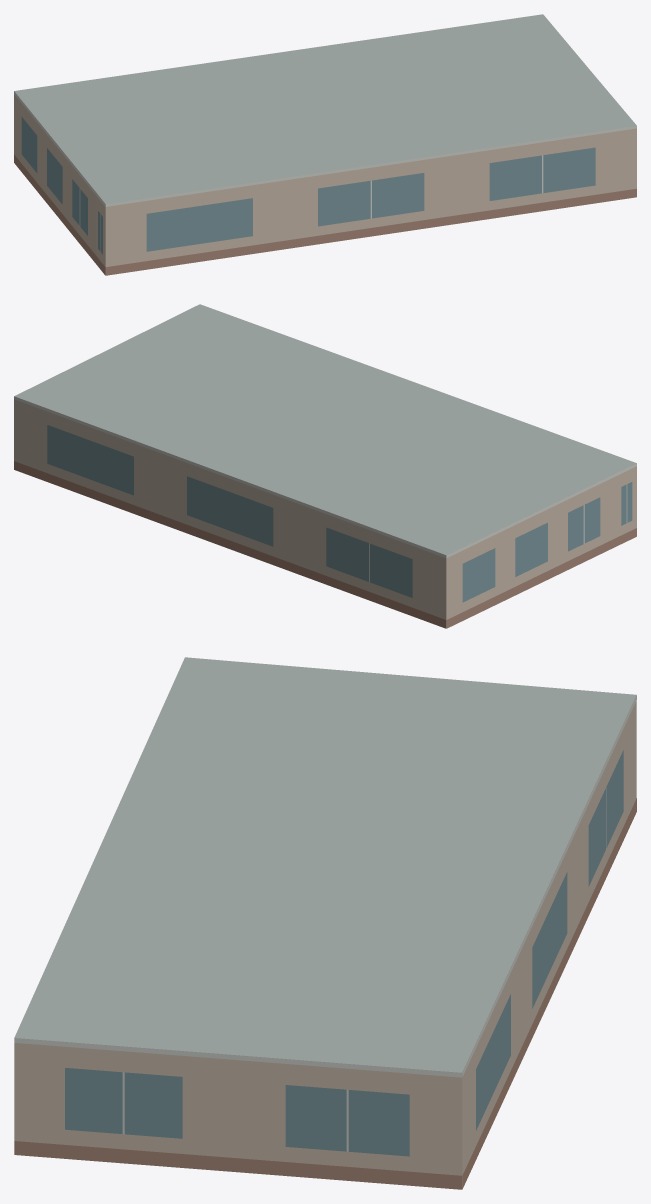
File: survey-upis-32707736.glb
3 views of the same model, one above another, from view 1: azimuth 30°, elevation 25°; view 2: azimuth 150°, elevation 25°; view 3: azimuth 270°, elevation 25° (orthographic). The views are drawn at different scales.
Parts seen in each view (by area): view 1: survey-upis-32707736.tmp; view 2: survey-upis-32707736.tmp; view 3: survey-upis-32707736.tmp.
Part boxes in pixels (x1=…): survey-upis-32707736.tmp: x1=14, y1=14, x2=636, y2=275; survey-upis-32707736.tmp: x1=14, y1=304, x2=636, y2=628; survey-upis-32707736.tmp: x1=14, y1=657, x2=636, y2=1189.
Bounding box in the file's own units: 23.27 × 3.05 × 14.74.
